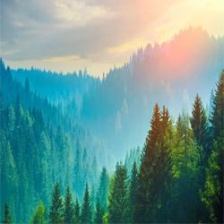neutral: (2, 6, 223, 222)
